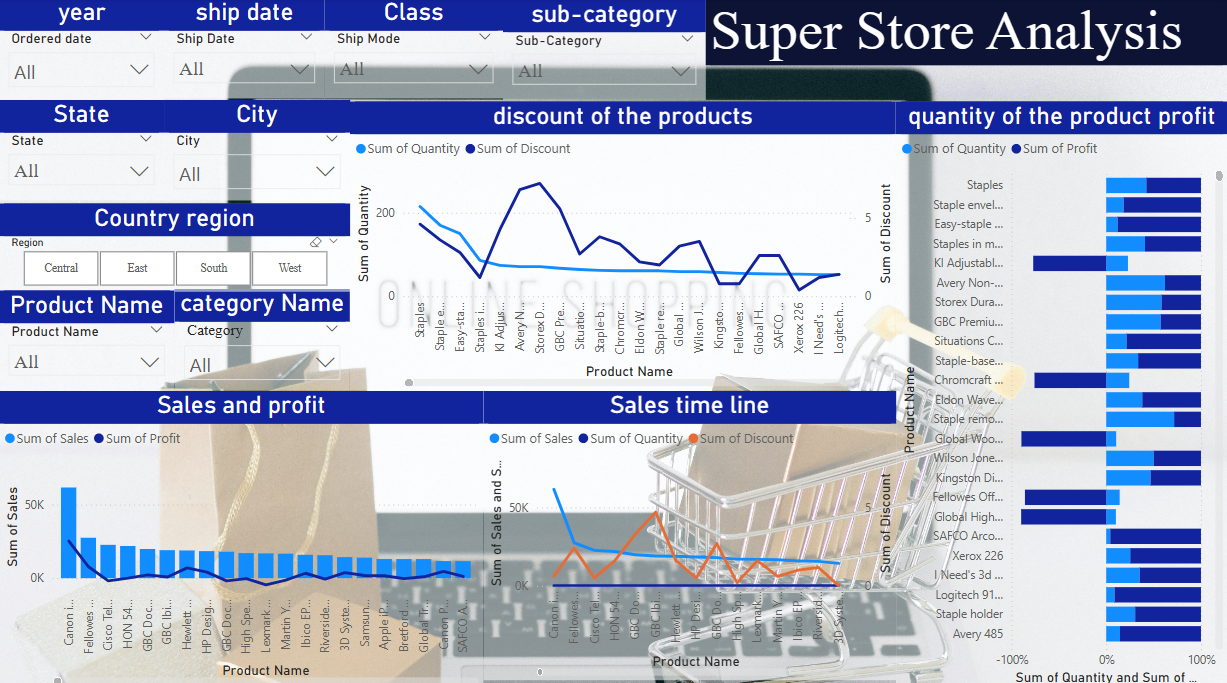

What the dashboard file says about the page in this screenshot:
{"tool":"powerbi","page":{"name":"Page 1","canvas":[1280,720],"ordinal":0},"visuals":[{"type":"slicer","title":"category Name","fields":{"Values":["Sample - Superstore.Category"]},"box":[182.9,303.2,182.9,106.3],"z":0},{"type":"slicer","title":"Class","fields":{"Values":["Sample - Superstore.Ship Mode"]},"box":[339.2,0,186,104.7],"z":1000},{"type":"textbox","title":"Super Store Analysis","box":[736.2,0,543.9,73.5],"z":2000},{"type":"slicer","title":"year","fields":{"Values":["Sample - Superstore.Order Date"]},"box":[0,0,171.9,106.3],"z":3000},{"type":"slicer","title":"City","fields":{"Values":["Sample - Superstore.City"]},"box":[171.9,106.3,193.8,104.7],"z":4000},{"type":"slicer","title":"State","fields":{"Values":["Sample - Superstore.State"]},"box":[0,106.3,171.9,104.7],"z":5000},{"type":"slicer","title":"Country region","fields":{"Values":["Sample - Superstore.Region"]},"box":[0,214.1,365.7,92.2],"z":6000},{"type":"slicer","title":"sub-category","fields":{"Values":["Sample - Superstore.Sub-Category"]},"box":[525.2,1.6,211,104.7],"z":7000},{"type":"slicer","title":"ship date","fields":{"Values":["Sample - Superstore.Ship Date"]},"box":[171.9,0,167.2,104.7],"z":8000},{"type":"lineStackedColumnComboChart","title":"Sales and profit","fields":{"Category":["Sample - Superstore.Product Name"],"Y":["Sum(Sample - Superstore.Sales)"],"Y2":["Sum(Sample - Superstore.Profit)"]},"box":[0,409.5,504.8,311],"z":9000},{"type":"slicer","title":"Product Name","fields":{"Values":["Sample - Superstore.Product Name"]},"box":[0,304.8,182.9,104.7],"z":10000},{"type":"hundredPercentStackedBarChart","title":"quantity of the product profit","fields":{"Category":["Sample - Superstore.Product Name"],"Y":["Sum(Sample - Superstore.Quantity)","Sum(Sample - Superstore.Profit)"]},"box":[934.7,107.8,345.4,612.7],"z":11000},{"type":"lineChart","title":"discount of the products","fields":{"Category":["Sample - Superstore.Product Name"],"Y2":["Sum(Sample - Superstore.Discount)"],"Y":["Sum(Sample - Superstore.Quantity)"]},"box":[365.7,107.8,568.9,301.7],"z":12000},{"type":"lineChart","title":"Sales time line","fields":{"Category":["Sample - Superstore.Product Name"],"Y2":["Sum(Sample - Superstore.Discount)"],"Y":["Sum(Sample - Superstore.Sales)","Sum(Sample - Superstore.Quantity)"]},"box":[504.8,409.5,429.8,301.7],"z":13000}]}

Visuals, with their boxes in screenshot pixels (x1, y1, x2, y2), scaled from the page's 1280x720 canvas onto the 1227x683 screenshot:
"category Name" slicer: select_region(175, 288, 351, 388)
"Class" slicer: select_region(325, 0, 503, 99)
"Super Store Analysis" textbox: select_region(706, 0, 1226, 70)
"year" slicer: select_region(0, 0, 165, 101)
"City" slicer: select_region(165, 101, 351, 200)
"State" slicer: select_region(0, 101, 165, 200)
"Country region" slicer: select_region(0, 203, 351, 291)
"sub-category" slicer: select_region(503, 2, 706, 101)
"ship date" slicer: select_region(165, 0, 325, 99)
"Sales and profit" lineStackedColumnComboChart: select_region(0, 388, 484, 682)
"Product Name" slicer: select_region(0, 289, 175, 388)
"quantity of the product profit" hundredPercentStackedBarChart: select_region(896, 102, 1226, 682)
"discount of the products" lineChart: select_region(351, 102, 896, 388)
"Sales time line" lineChart: select_region(484, 388, 896, 675)
